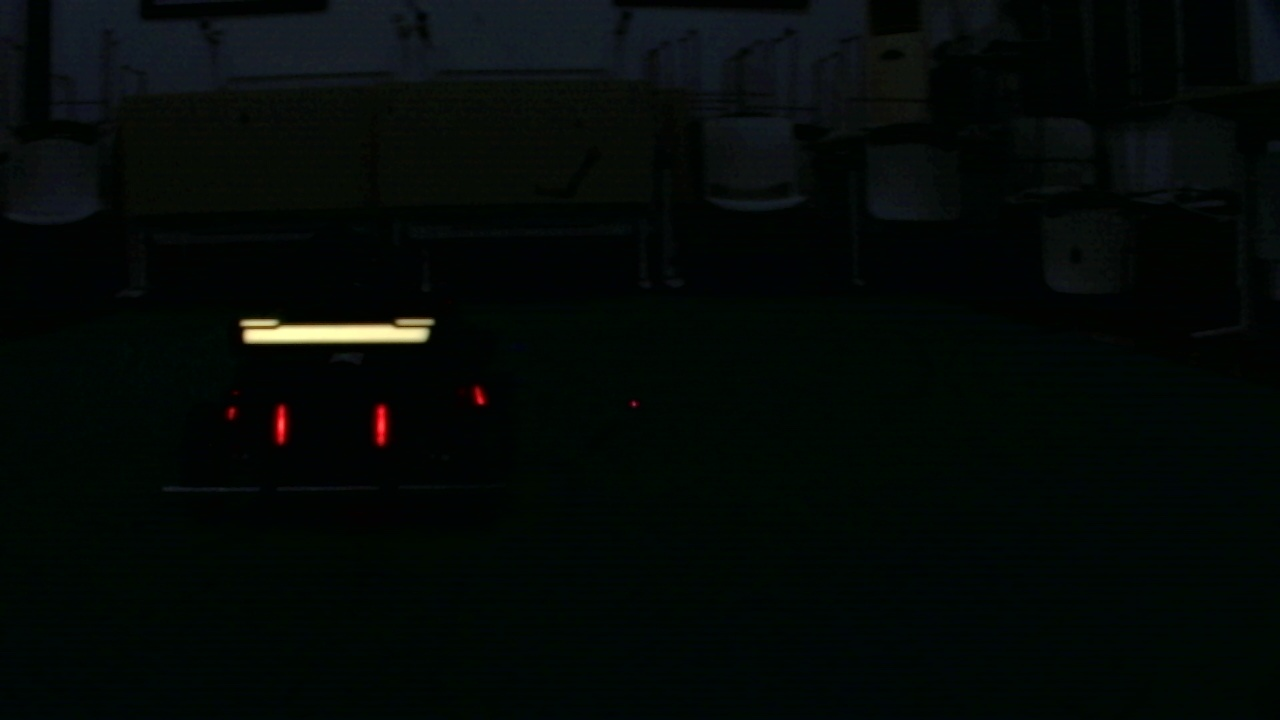lamp: (370, 401, 388, 446), (276, 400, 288, 447)
pair1: (275, 400, 388, 446)
